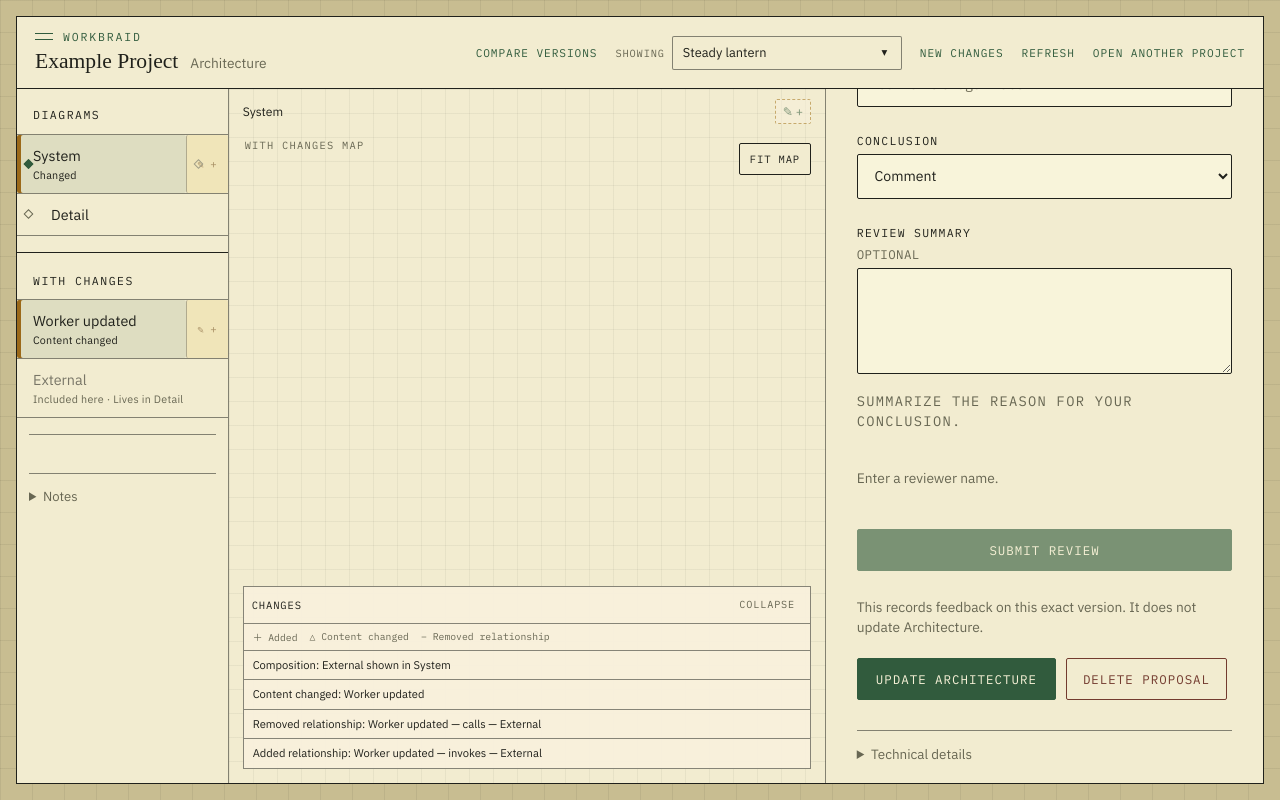
Scenario: candidate review regressions › does not select Accepted for architecture_stale after Update
The image size is (1280, 800).
(page scrolled)
Click the button "Update architecture" at [956, 679], box x1=857 y1=658 x2=1056 y2=700
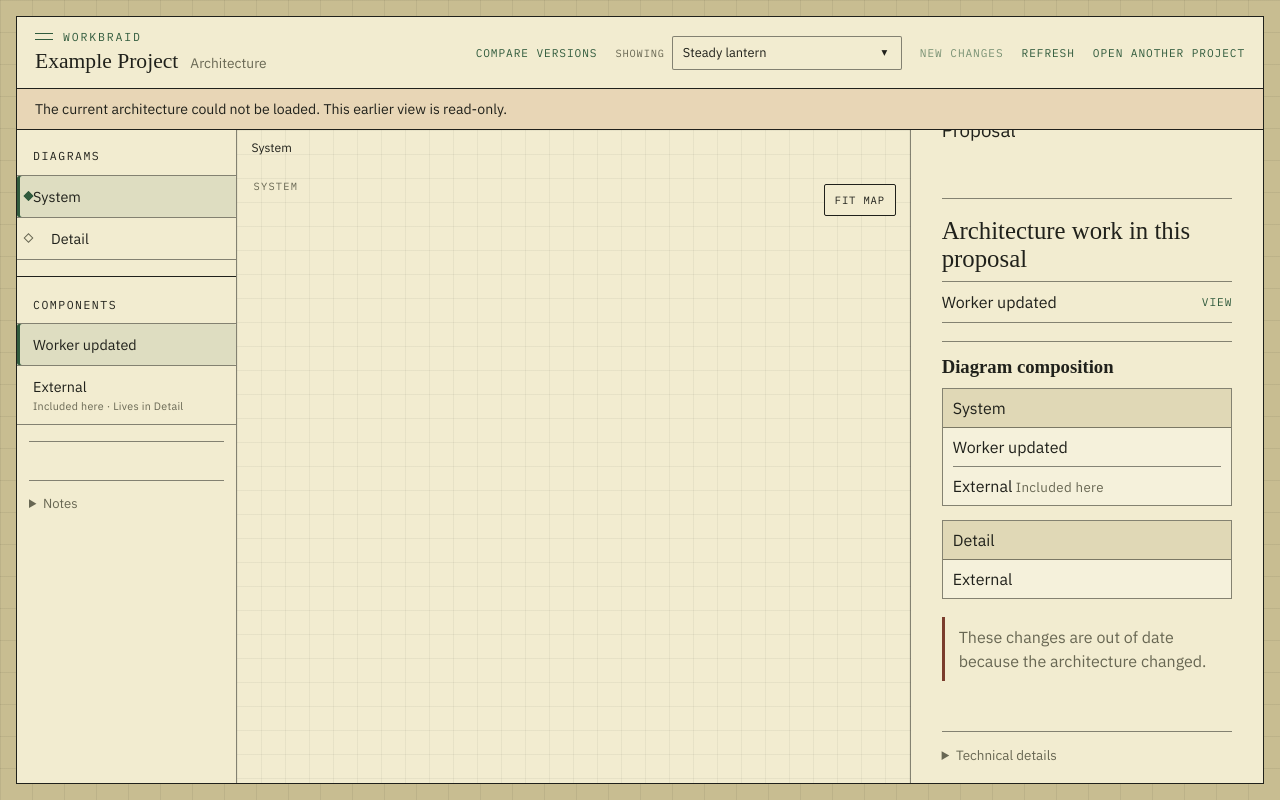
Expected: the button named "Showing Steady lantern" is enabled, x1=672 y1=36 x2=902 y2=70
Expected: the text "update Architecture" is gone
Expected: the message "The current architecture could not be loaded. This earlier view is read-only." is shown, x1=17 y1=89 x2=1263 y2=130
